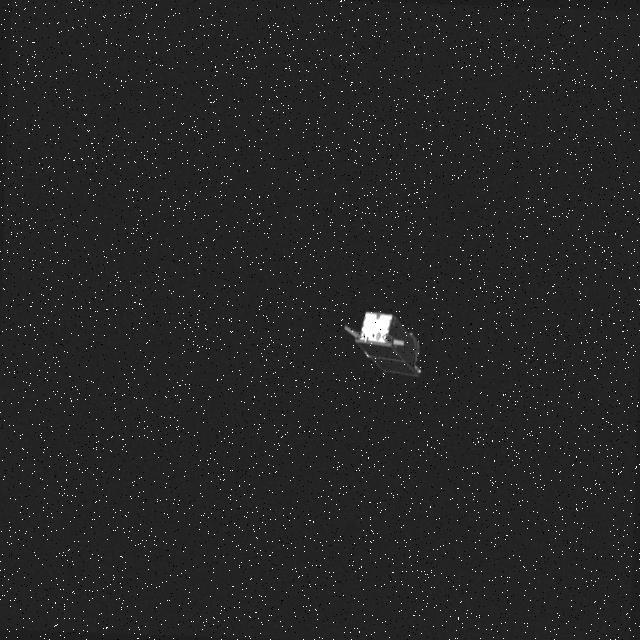medium_debris: (336, 302, 430, 374)
